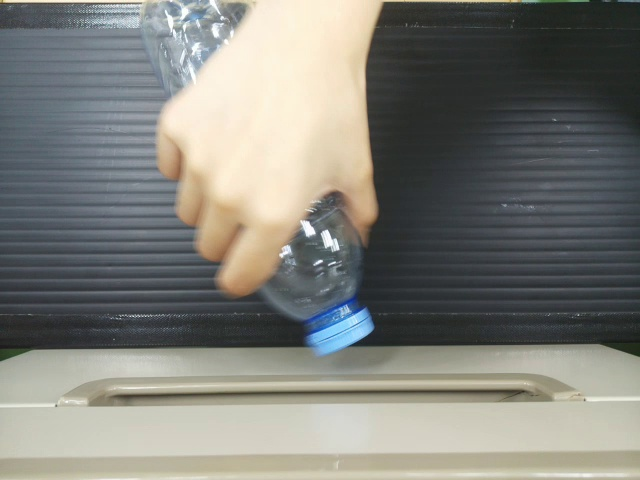bottle: (259, 186, 374, 362), (116, 0, 240, 96)
